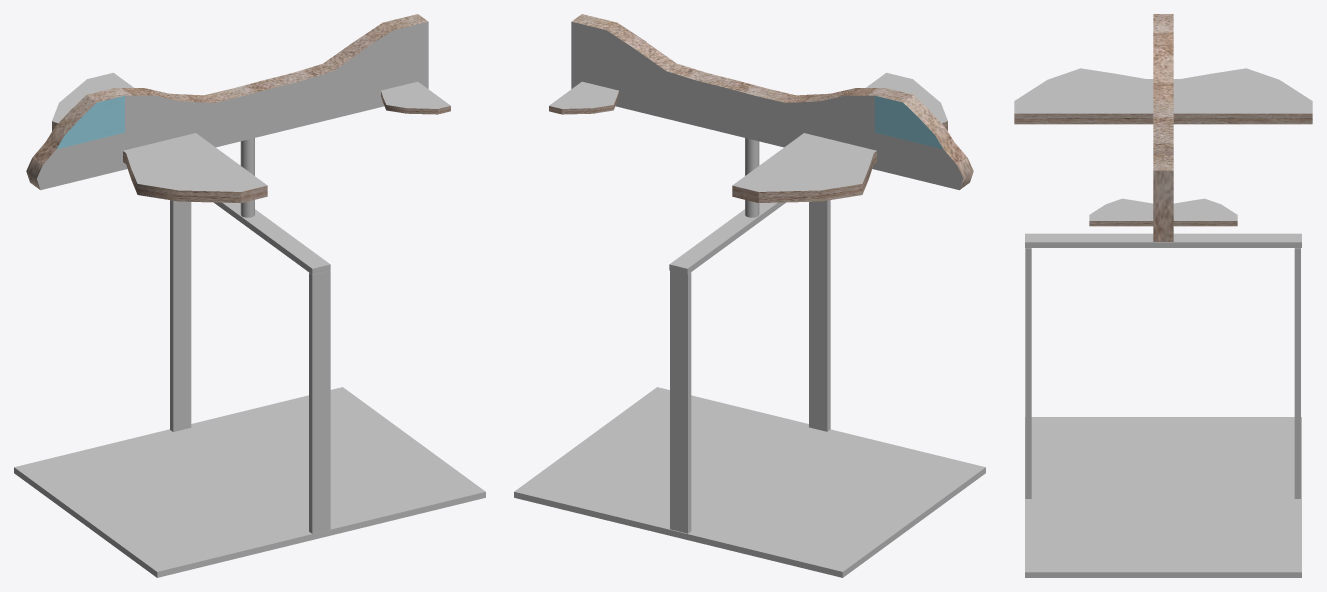
File: planeCarry.fbx
3 views of the same model, side by side, from view 1: azimuth 30°, elevation 25°; view 2: azimuth 150°, elevation 25°; view 3: azimuth 270°, elevation 25° (orthographic). The views are drawn at different scales.
Parts seen in each view (by area): view 1: carrier, polySurface1, crossBar2, crossBar1, crossBar, pole; view 2: carrier, polySurface1, crossBar1, crossBar2, crossBar, pole; view 3: carrier, polySurface1, crossBar, crossBar1, crossBar2.
Part boxes in pixels (x1,y1,x2,y2): carrier: (14, 387, 485, 577); polySurface1: (26, 14, 450, 202); crossBar2: (309, 270, 330, 533); crossBar1: (170, 200, 191, 431); crossBar: (214, 202, 330, 274); pole: (240, 138, 254, 217); carrier: (514, 387, 985, 577); polySurface1: (549, 14, 973, 202); crossBar1: (670, 270, 691, 533); crossBar2: (809, 200, 830, 431); crossBar: (669, 202, 785, 274); pole: (745, 138, 759, 217); carrier: (1025, 417, 1301, 577); polySurface1: (1014, 14, 1312, 241); crossBar: (1025, 233, 1301, 247); crossBar1: (1294, 248, 1300, 498); crossBar2: (1025, 248, 1031, 498).
Bounding box in the file's own units: 9.56 × 9.92 × 6.52.
